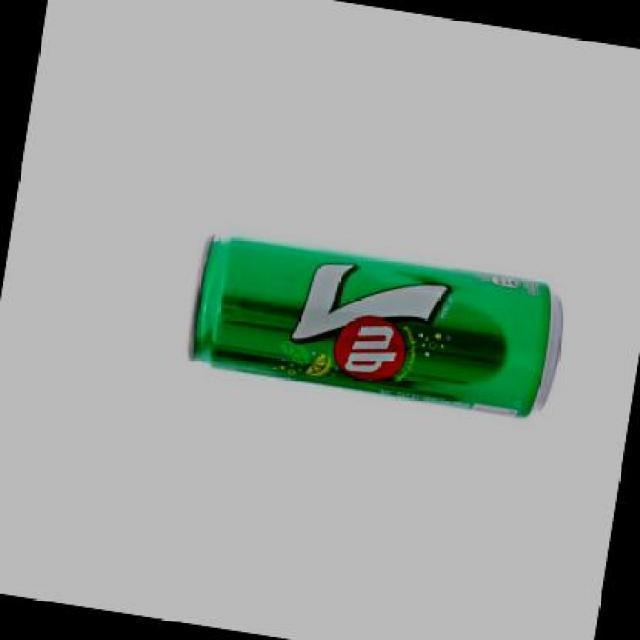metal-can: (179, 229, 568, 426)
